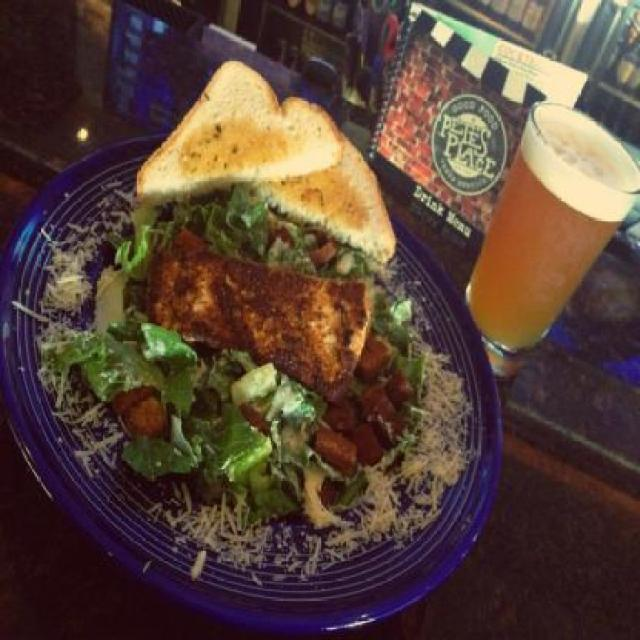Sandwich: (136, 56, 344, 200), (264, 127, 398, 267)
